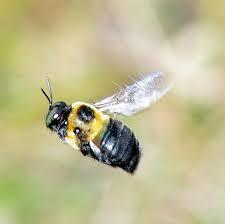Xylocopa: (36, 67, 170, 178)
